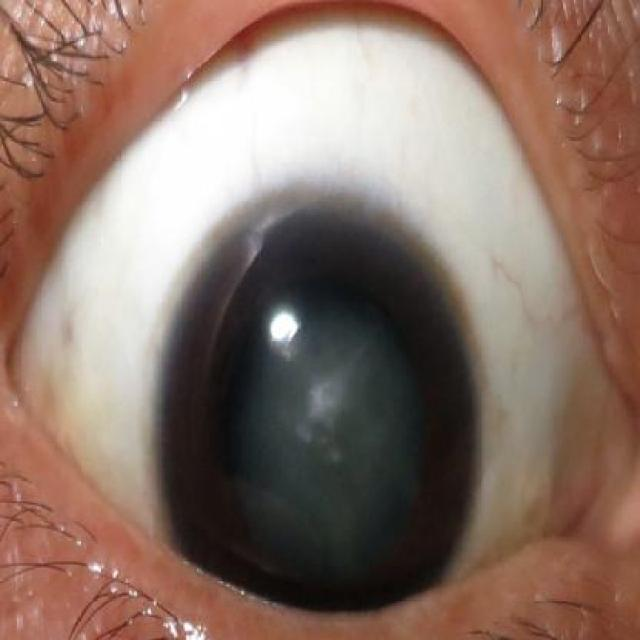Cataract: (143, 174, 479, 640)
